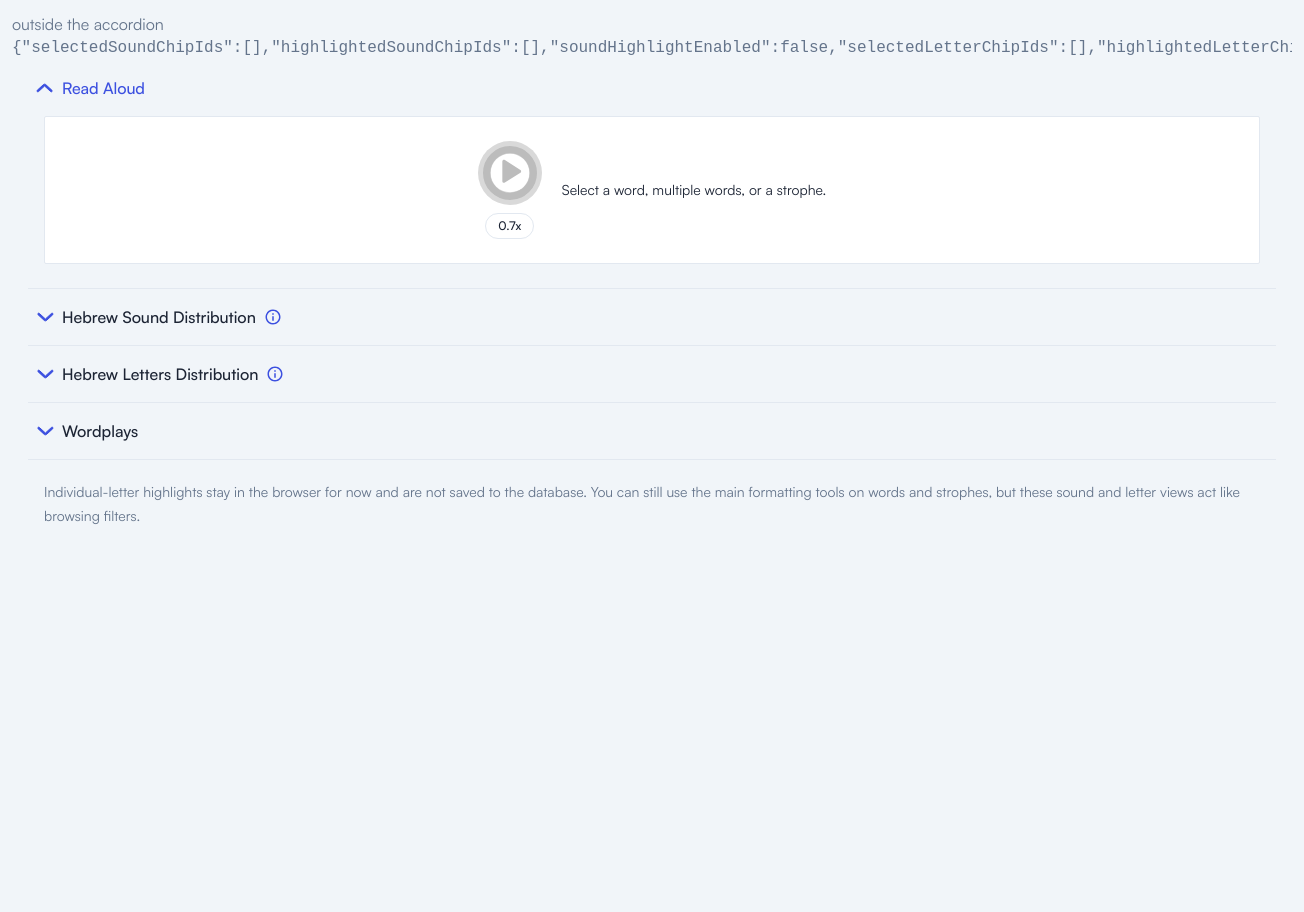
Test: count memos › letter 'מ ם' group shows the Hebrew occurrence count (2 mem in מָמָ)
This screenshot has width=1304, height=912.
Click the button "Hebrew Letters Distribution" at (147, 374), box [36, 362, 258, 386]
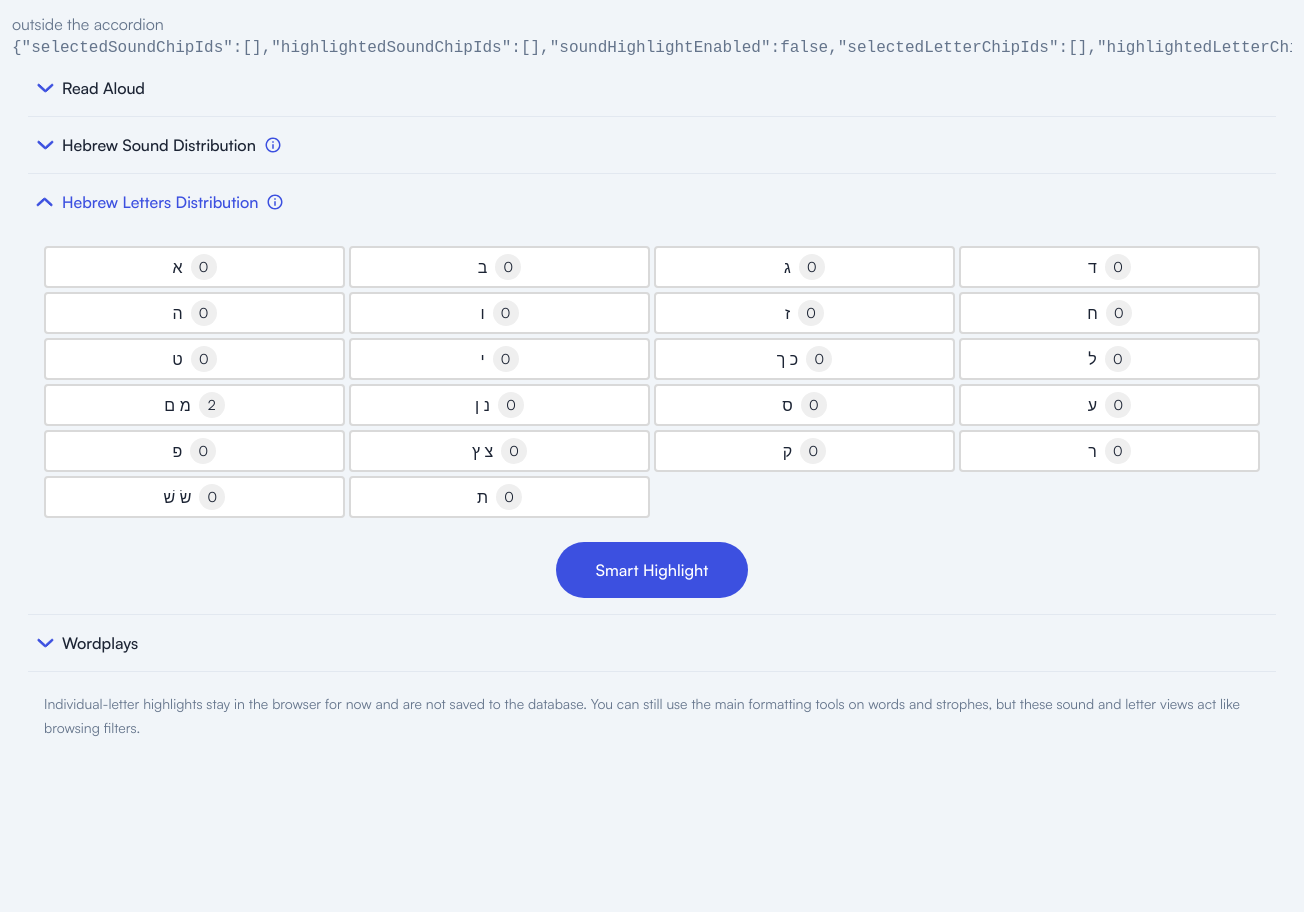
Now the text "2" is shown, box [199, 392, 225, 418]
